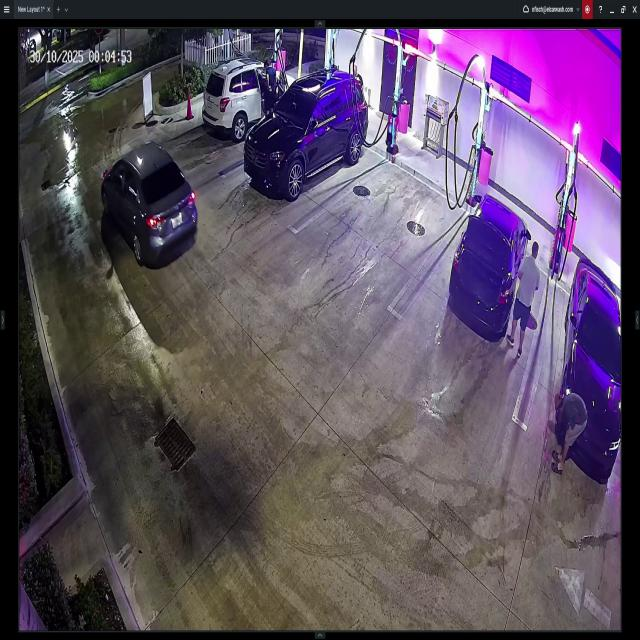Car: (244, 68, 365, 196), (558, 258, 622, 471), (451, 193, 529, 339), (100, 143, 198, 257), (203, 59, 294, 139)
